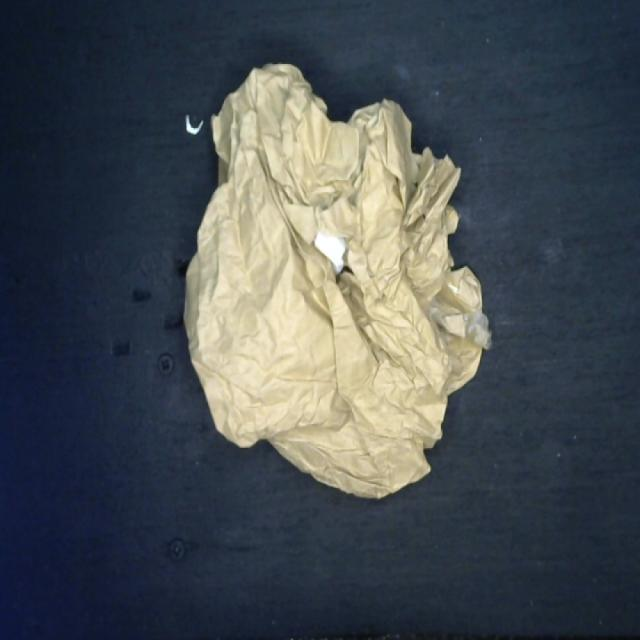biodegradable: (176, 56, 497, 504)
